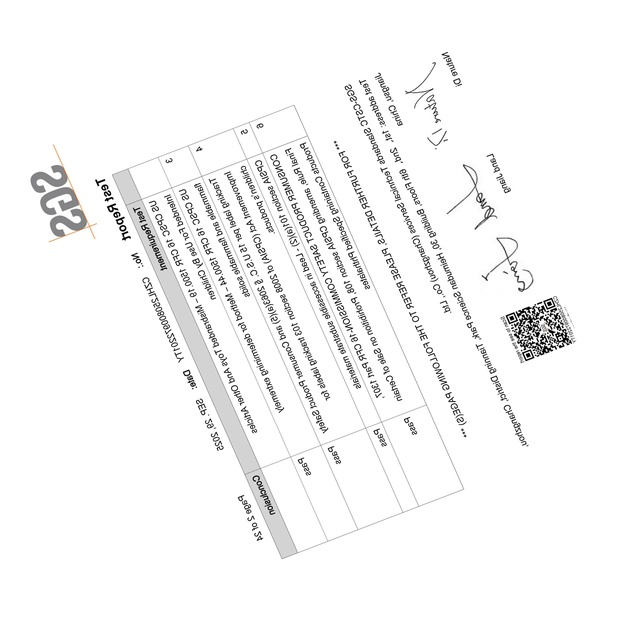sgs: (31, 163, 88, 238)
